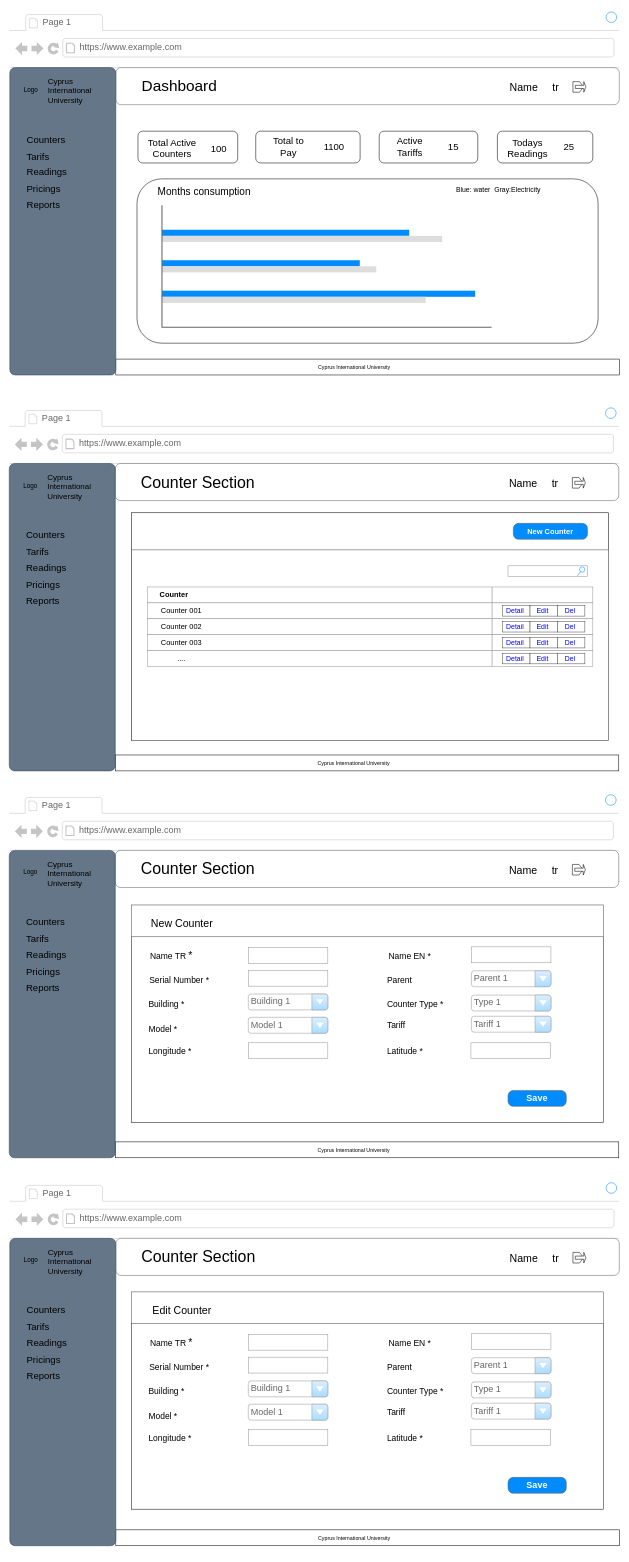
The diagram is 629 pixels wide and 1562 high, and some of its shapes have lost their labels. The shapes that lost their labels are listed below. From the top down, each one's centre as x and y in pixels, then its label:
At (547,570): "Search".
At (542,594): "Actions".
